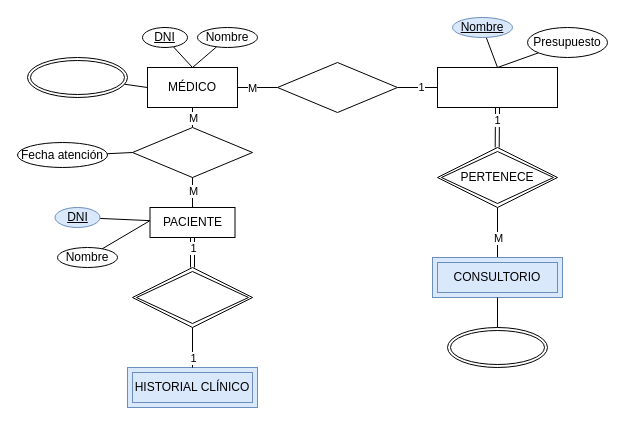
Image size: 625x425. Some labels were removed from this diagram. The centre of each missing label's shape, as x and y in pixels:
"ATIENDE" belongs at point 192,152.
"DEPARTAMENTO" belongs at point 497,87.
"Nro. consultorio" belongs at point 497,347.
"TIENE" belongs at point 192,297.
"TRABAJA EN" belongs at point 337,87.
"{especialidades}" belongs at point 77,77.
